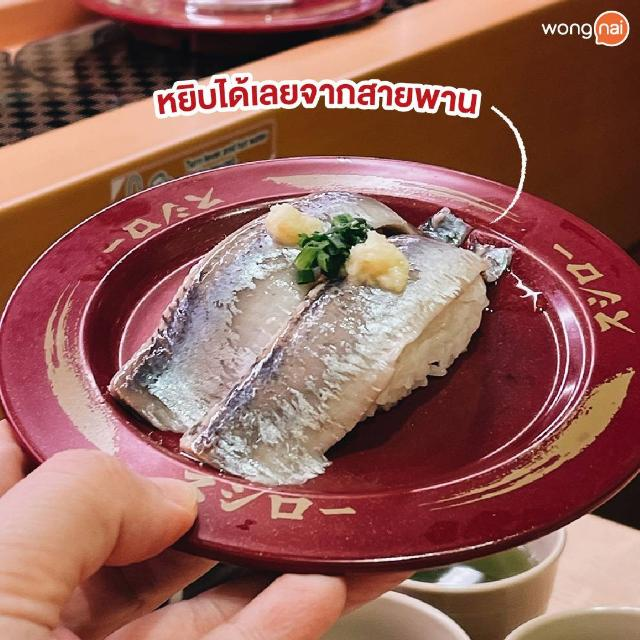janred: (39, 210, 609, 565), (73, 0, 402, 76)
